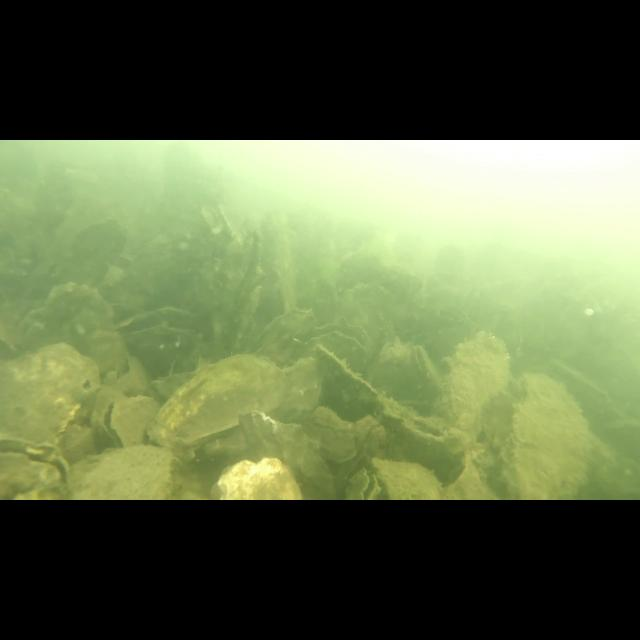Oyster-Closed: (315, 342, 467, 482), (154, 350, 288, 450), (17, 282, 125, 386), (508, 372, 592, 500), (0, 342, 100, 446), (237, 410, 336, 500), (451, 329, 509, 447), (64, 442, 172, 500), (255, 306, 317, 368), (218, 456, 302, 500), (280, 354, 326, 430), (372, 454, 443, 501)
Oyster-Open: (114, 307, 200, 375), (0, 434, 68, 500), (311, 320, 374, 378), (99, 396, 161, 454), (412, 342, 441, 402), (347, 468, 381, 499)
